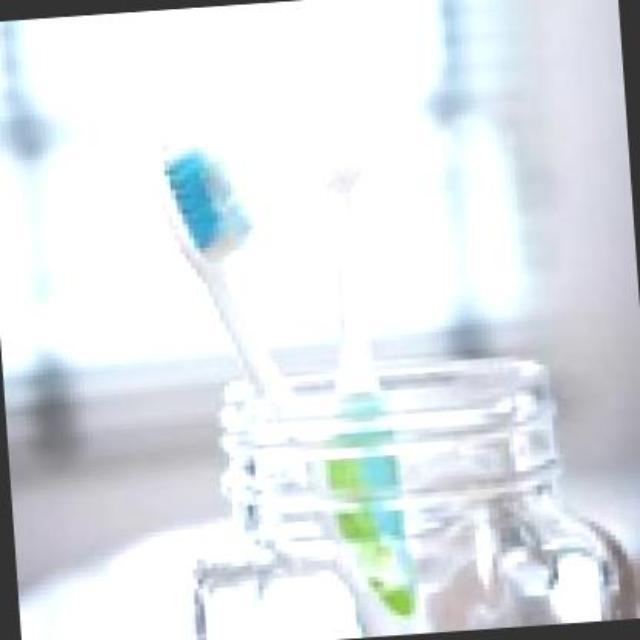toothbrush: (104, 84, 408, 346)
